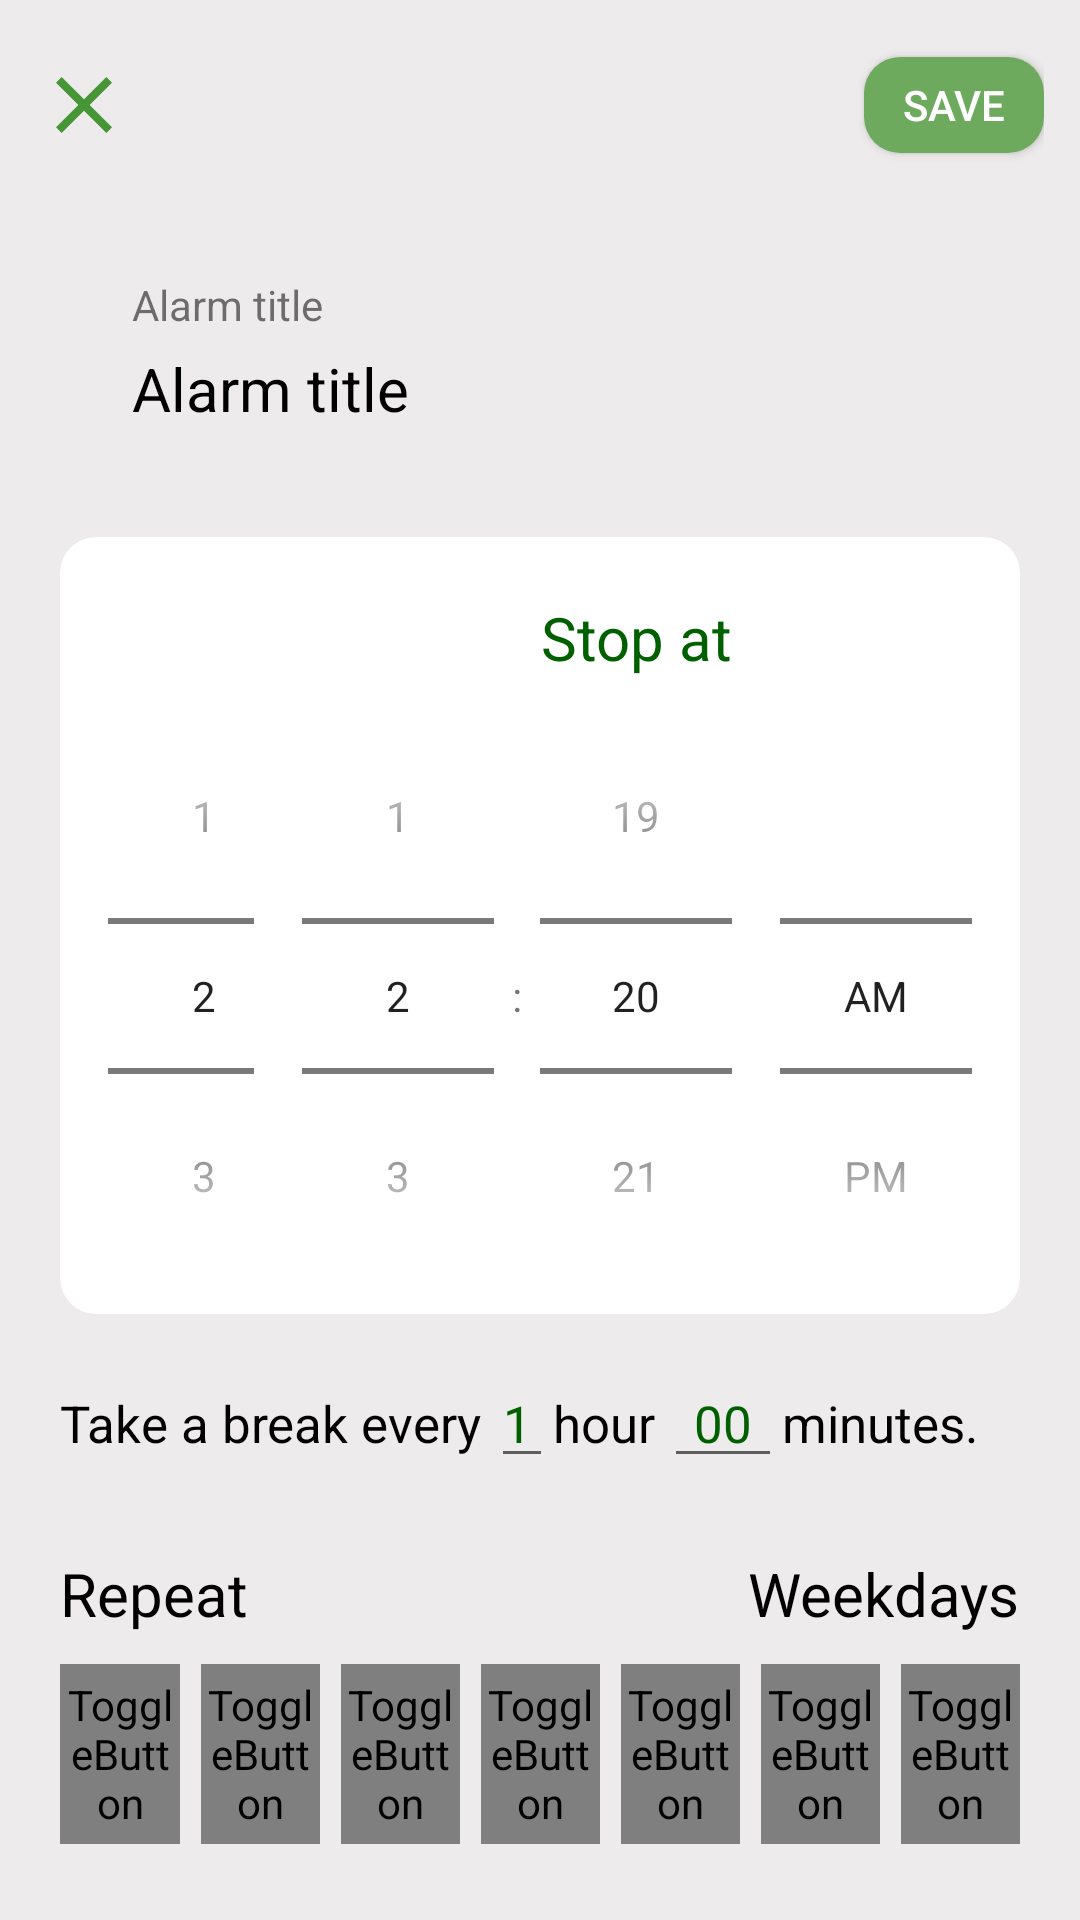

Icons on this 1080w x 1920h Android screen, each with the point to tap as (x,y):
exit: (84,105)
